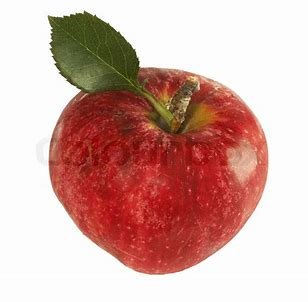inorganic: (42, 5, 277, 288)
